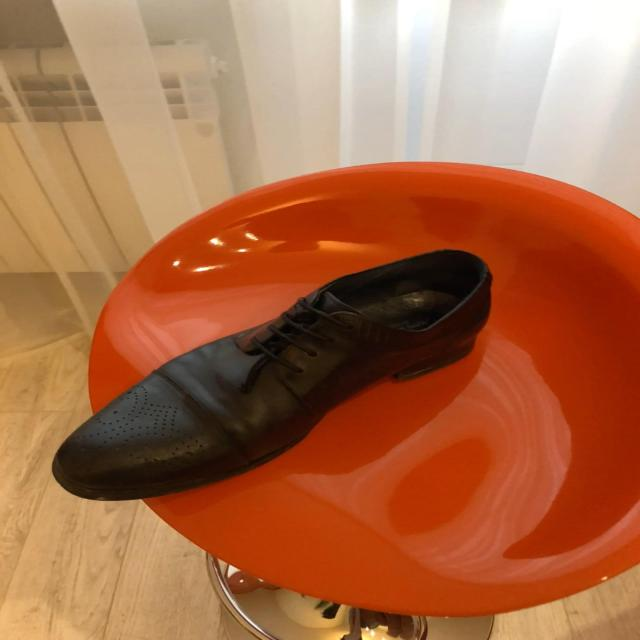shoe: (52, 250, 494, 505)
